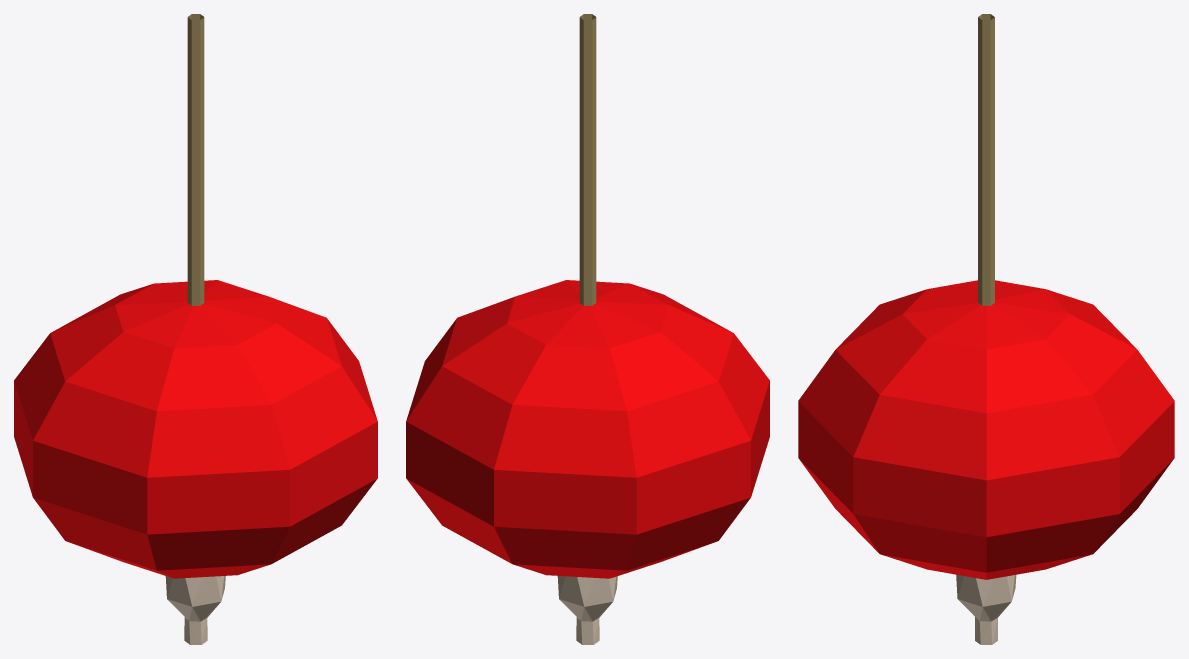
Rendered from Paper_Lamp_1 Asia.fbx.
3 renders of one model, left to right at view 1: azimuth 30°, elevation 25°; view 2: azimuth 150°, elevation 25°; view 3: azimuth 270°, elevation 25°, orthographic.
Parts seen in each view (by area): view 1: Paper_Lamp_1; view 2: Paper_Lamp_1; view 3: Paper_Lamp_1.
Part boxes in pixels (box(x1,y1,x2,y2)): Paper_Lamp_1: box(14, 14, 377, 644); Paper_Lamp_1: box(406, 14, 769, 644); Paper_Lamp_1: box(798, 14, 1174, 644).
Size of the model in its own units: 0.2686 by 0.4908 by 0.2686.
